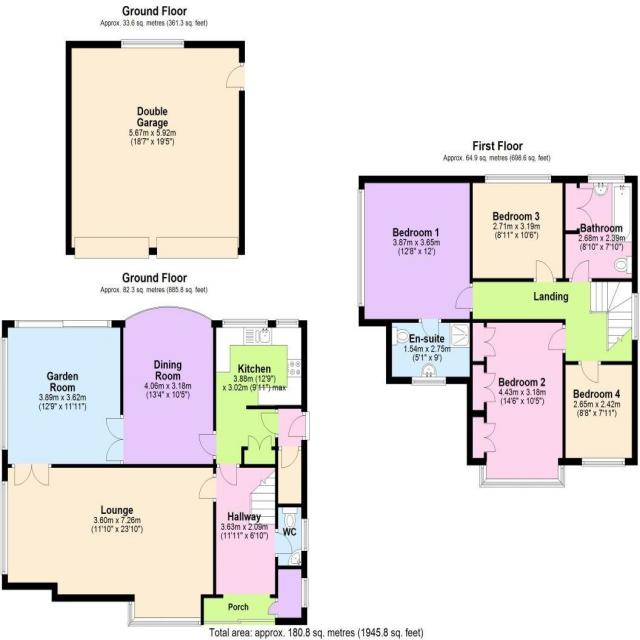DOOR: (532, 260, 556, 284), (454, 283, 473, 313), (578, 360, 601, 384), (568, 259, 592, 282), (274, 530, 295, 556), (547, 325, 566, 353), (218, 462, 239, 487), (197, 432, 217, 458), (287, 413, 307, 439), (280, 445, 300, 470), (259, 411, 279, 436), (197, 476, 217, 500)
DOUBLE DOOR: (104, 411, 124, 466), (12, 461, 52, 487)
ROOM: (1, 462, 217, 631), (0, 320, 125, 488), (357, 174, 473, 344), (196, 319, 308, 487), (105, 304, 217, 470), (466, 318, 566, 489), (469, 174, 566, 283), (562, 361, 638, 466)
WINDOW: (478, 464, 566, 489), (123, 305, 214, 322), (12, 318, 112, 331), (357, 186, 367, 308), (0, 335, 9, 453), (126, 614, 202, 627), (0, 479, 9, 576), (483, 173, 553, 184), (221, 318, 269, 329), (580, 457, 626, 467), (587, 173, 626, 184), (411, 376, 447, 387), (300, 517, 310, 553), (300, 576, 310, 609), (127, 599, 136, 629), (275, 319, 300, 329)
